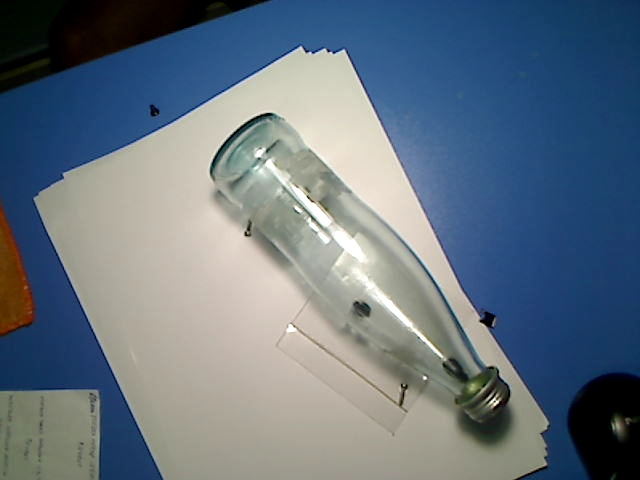bottle: (206, 110, 512, 426)
